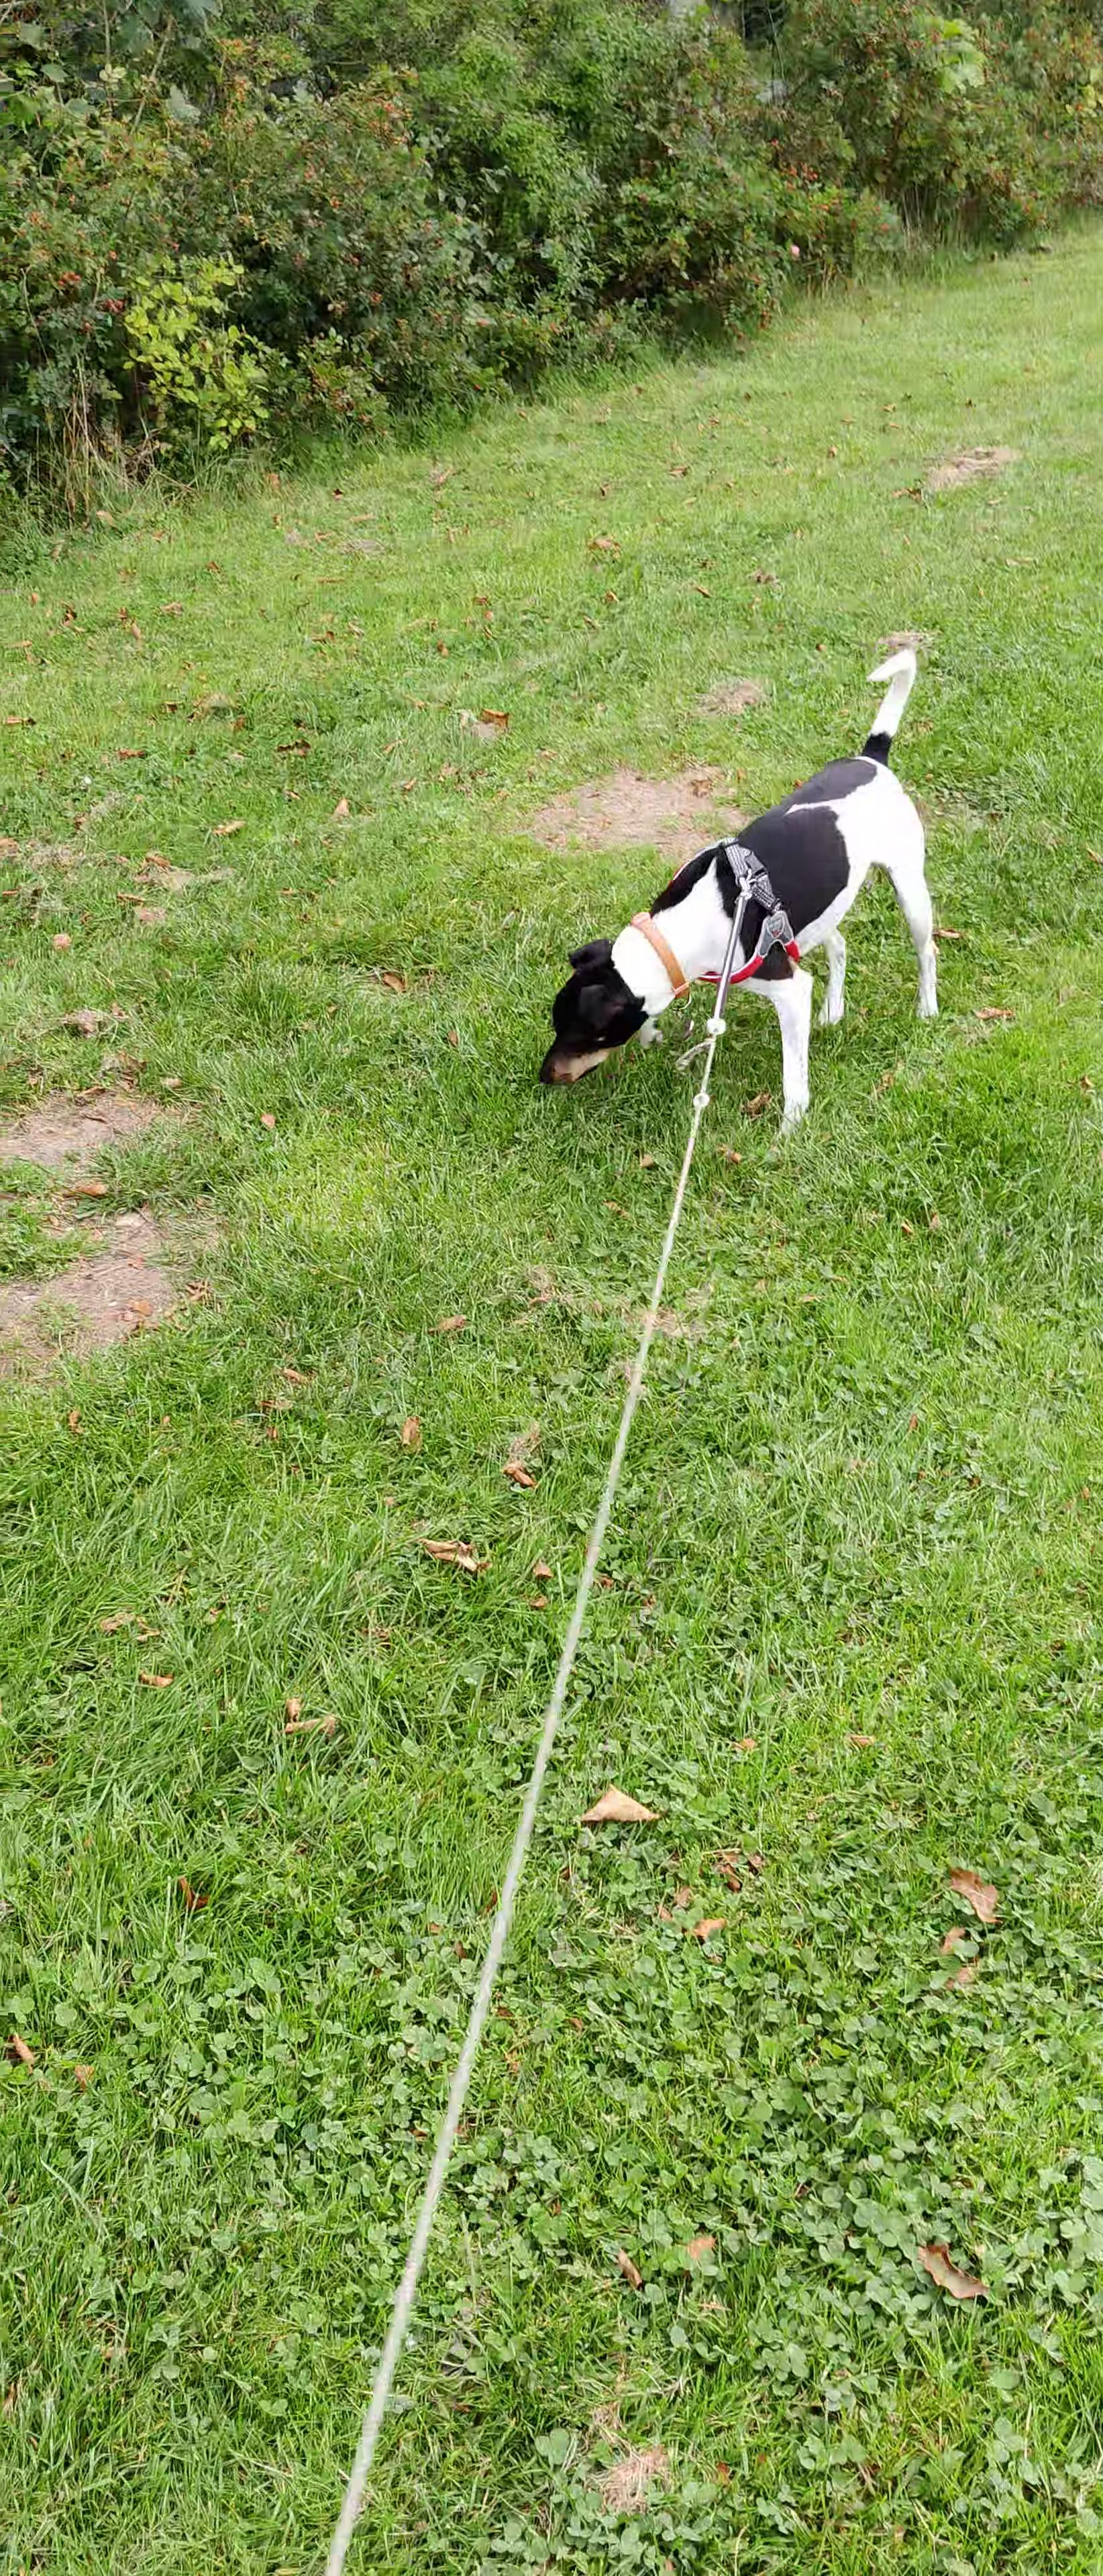Dog: (521, 646, 965, 1145)
